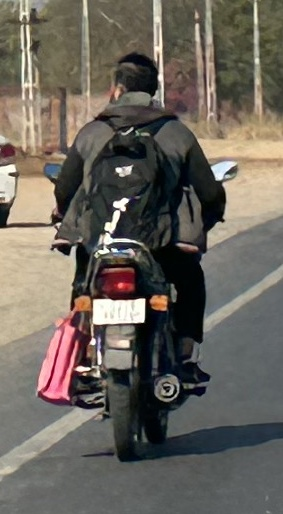BikeWithRider: (29, 45, 244, 467)
NoHelmet: (99, 46, 168, 113)
